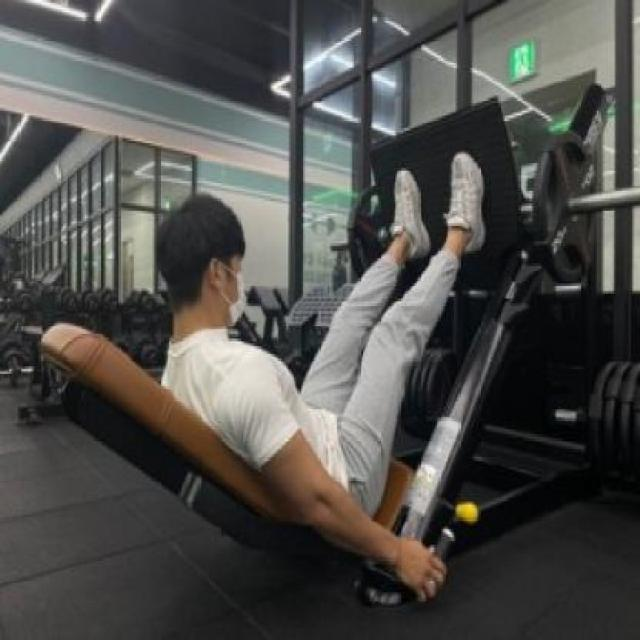leg press: (35, 49, 640, 640)
